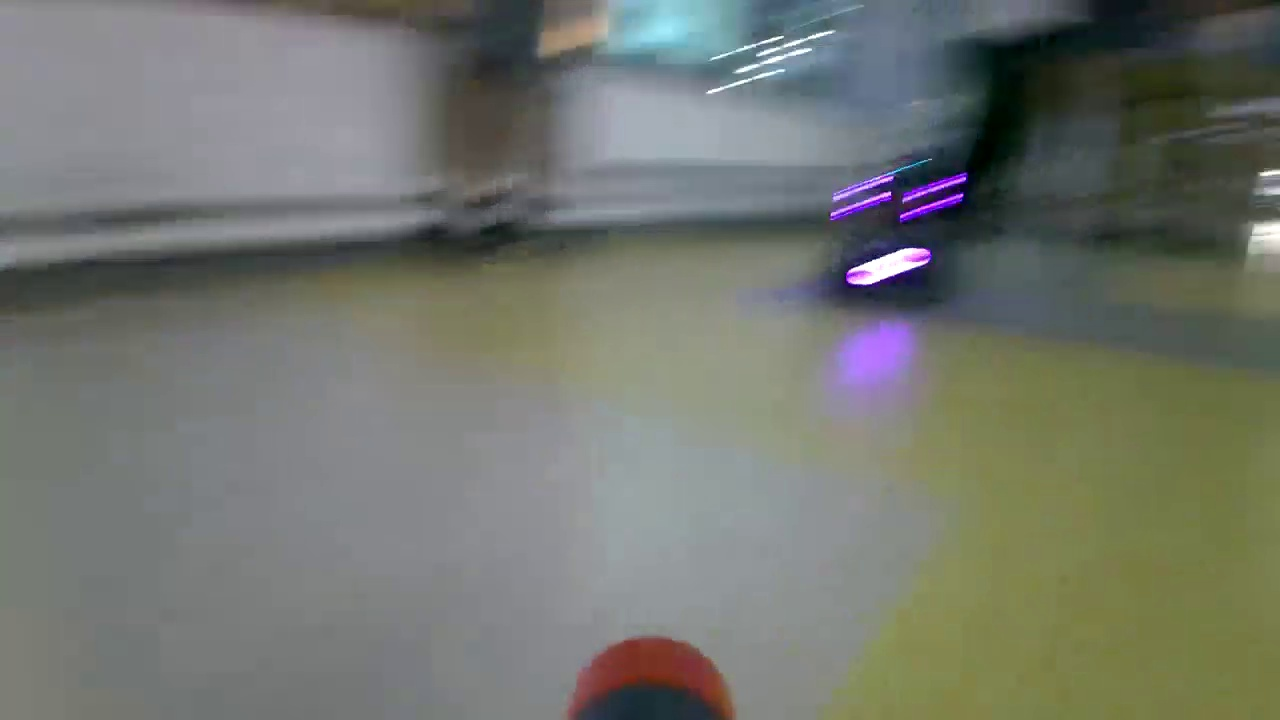robot: (828, 162, 968, 302)
